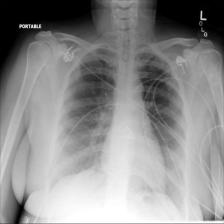normal: (52, 38, 190, 192)
